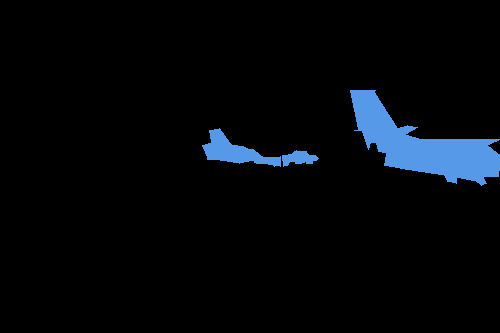Airplane: (350, 90, 500, 185), (202, 128, 252, 164), (249, 149, 318, 166)
